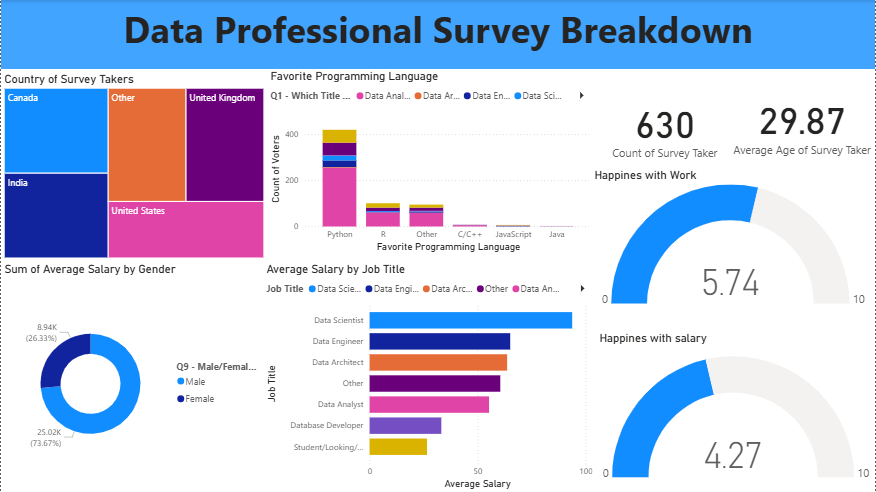

The page's visual inventory and layout, read from the dashboard file:
{"tool":"powerbi","page":{"name":"Page 1","canvas":[1280,720],"ordinal":0},"visuals":[{"type":"textbox","box":[0,0,1280,100.8],"z":0},{"type":"card","fields":{"Values":["Count(Data Professional Survey.Unique ID)"]},"box":[870.1,100.8,201.6,169.7],"z":1000},{"type":"card","fields":{"Values":["Avg(Data Professional Survey.Q10 - Current Age)"]},"box":[1063.3,100.8,216.7,159.6],"z":2000},{"type":"barChart","title":"Average Salary by Job Title","fields":{"Category":["Data Professional Survey.Q1 - Which Title Best Fits your Current Role?.1"],"Y":["Avg(Data Professional Survey.Average Salary)"],"Series":["Data Professional Survey.Q1 - Which Title Best Fits your Current Role?.1"]},"box":[383,383,487.1,337.6],"z":3000},{"type":"columnChart","title":"Favorite Programming Language","fields":{"Category":["Data Professional Survey.Q5 - Favorite Programming Language.1"],"Y":["CountNonNull(Data Professional Survey.Unique ID)"],"Series":["Data Professional Survey.Q1 - Which Title Best Fits your Current Role?.1"]},"box":[389.7,100.8,480.4,273.8],"z":4000},{"type":"treemap","title":"Country of Survey Takers","fields":{"Group":["Data Professional Survey.Q11 - Which Country do you live in?.1"],"Values":["Count(Data Professional Survey.Q11 - Which Country do you live in?.1)"]},"box":[0,105.8,389.7,277.2],"z":5000},{"type":"gauge","title":"Happines with Work","fields":{"Y":["Avg(Data Professional Survey.Q6 - How Happy are you in your Current Position with the following? (Work/Life Balance))"],"MinValue":["Min(Data Professional Survey.Q6 - How Happy are you in your Current Position with the following? (Work/Life Balance))1"],"MaxValue":["Max(Data Professional Survey.Q6 - How Happy are you in your Current Position with the following? (Work/Life Balance))2"]},"box":[863.4,245.2,416.6,208.3],"z":6000},{"type":"gauge","title":"Happines with salary","fields":{"Y":["Avg(Data Professional Survey.Q6 - How Happy are you in your Current Position with the following? (Salary))"],"MinValue":["Min(Data Professional Survey.Q6 - How Happy are you in your Current Position with the following? (Salary))1"],"MaxValue":["Max(Data Professional Survey.Q6 - How Happy are you in your Current Position with the following? (Salary))2"]},"box":[870.1,483.8,409.9,236.9],"z":7000},{"type":"donutChart","title":"Sum of Average Salary by Gender","fields":{"Category":["Data Professional Survey.Q9 - Male/Female?"],"Y":["Sum(Data Professional Survey.Average Salary)"]},"box":[0,383,383,337.6],"z":8000}]}

Visuals, with their boxes in screenshot pixels (x1, y1, x2, y2), scaled from the page's 1280x720 canvas onto the 876x492 screenshot:
textbox: crop(0, 0, 875, 69)
card - Count(Data Professional Survey.Unique ID): crop(595, 69, 733, 185)
card - Avg(Data Professional Survey.Q10 - Current Age): crop(728, 69, 875, 178)
"Average Salary by Job Title" barChart: crop(262, 262, 595, 491)
"Favorite Programming Language" columnChart: crop(267, 69, 595, 256)
"Country of Survey Takers" treemap: crop(0, 72, 267, 262)
"Happines with Work" gauge: crop(591, 168, 875, 310)
"Happines with salary" gauge: crop(595, 331, 875, 491)
"Sum of Average Salary by Gender" donutChart: crop(0, 262, 262, 491)
